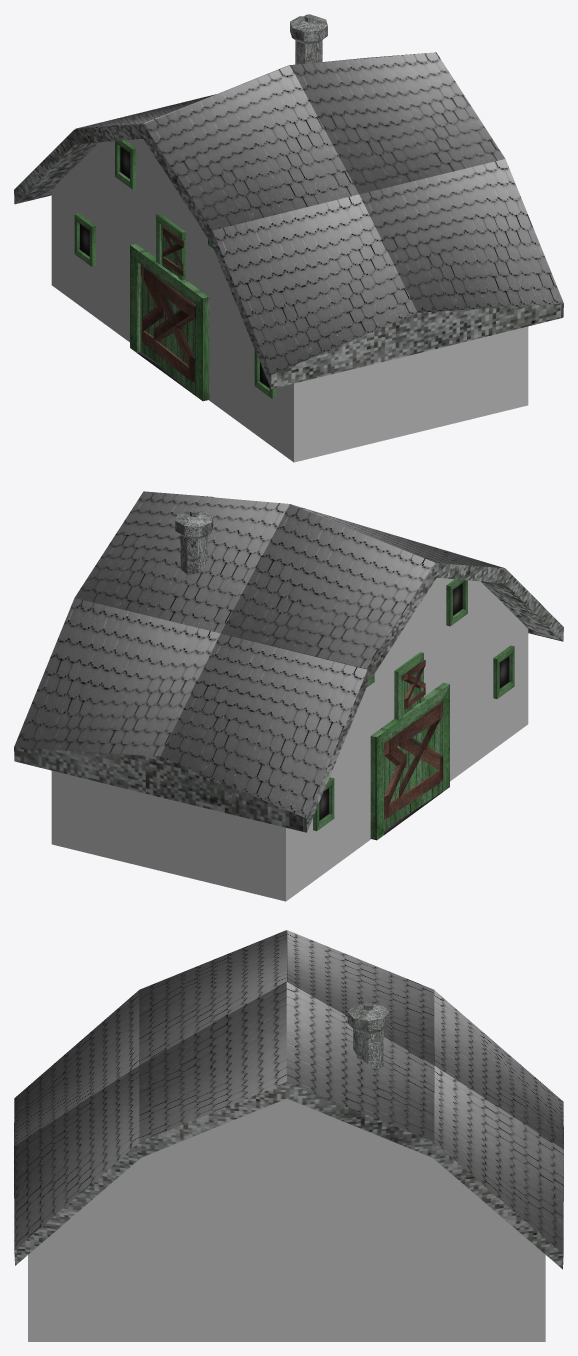
File: Barn.fbx
The picture shows the model from 3 angles, top to bottom: view 1: azimuth 30°, elevation 25°; view 2: azimuth 150°, elevation 25°; view 3: azimuth 270°, elevation 25°; orthographic projection. The views are drawn at different scales.
Parts seen in each view (by area): view 1: Roof, Barn, Gate Frame, Gate2, Gate1, Chimney, Window4, Window1, Gate3, LitlleGate Frame; view 2: Roof, Barn, Gate2, Gate Frame, Chimney, Gate1, Window3, Gate3, Window2, LitlleGate Frame, Window4; view 3: Barn, Roof, Chimney.
Part boxes in pixels (left/top/right/bottom): Roof: left=14, top=52, right=563, bottom=388; Barn: left=51, top=138, right=528, bottom=462; Gate Frame: left=130, top=243, right=209, bottom=401; Gate2: left=153, top=275, right=195, bottom=394; Gate1: left=140, top=265, right=163, bottom=364; Chimney: left=290, top=14, right=327, bottom=64; Window4: left=74, top=213, right=95, bottom=266; Window1: left=115, top=140, right=136, bottom=189; Gate3: left=161, top=225, right=183, bottom=276; LitlleGate Frame: left=156, top=213, right=185, bottom=280; Roof: left=14, top=491, right=563, bottom=832; Barn: left=51, top=577, right=528, bottom=901; Gate2: left=399, top=702, right=443, bottom=818; Gate Frame: left=370, top=682, right=449, bottom=840; Chimney: left=175, top=509, right=213, bottom=574; Gate1: left=384, top=726, right=407, bottom=830; Window3: left=493, top=645, right=514, bottom=698; Gate3: left=401, top=660, right=425, bottom=715; Window2: left=446, top=579, right=467, bottom=626; LitlleGate Frame: left=394, top=652, right=423, bottom=719; Window4: left=313, top=777, right=334, bottom=830; Barn: left=28, top=1098, right=545, bottom=1341; Roof: left=14, top=930, right=563, bottom=1269; Chimney: left=347, top=1002, right=389, bottom=1068.
Size of the model in its own units: 1433 by 1339 by 2179.
